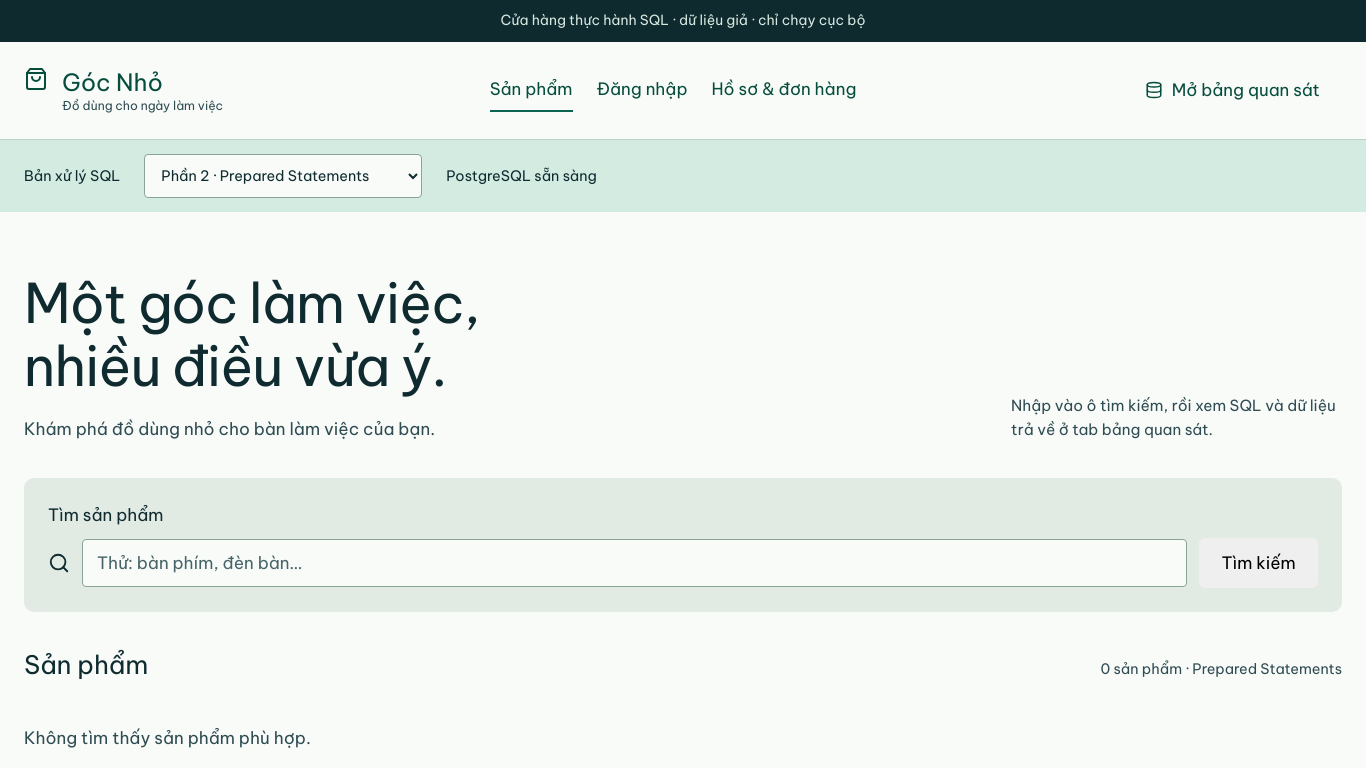
Test: Shop forms › sends search input unchanged and renders the returned rows
Check: the button "Tìm kiếm" is enabled, box [1199, 538, 1318, 588]
Type "a' b" into the field labelled "Tìm sản phẩm" at (635,563), box [82, 539, 1187, 587]
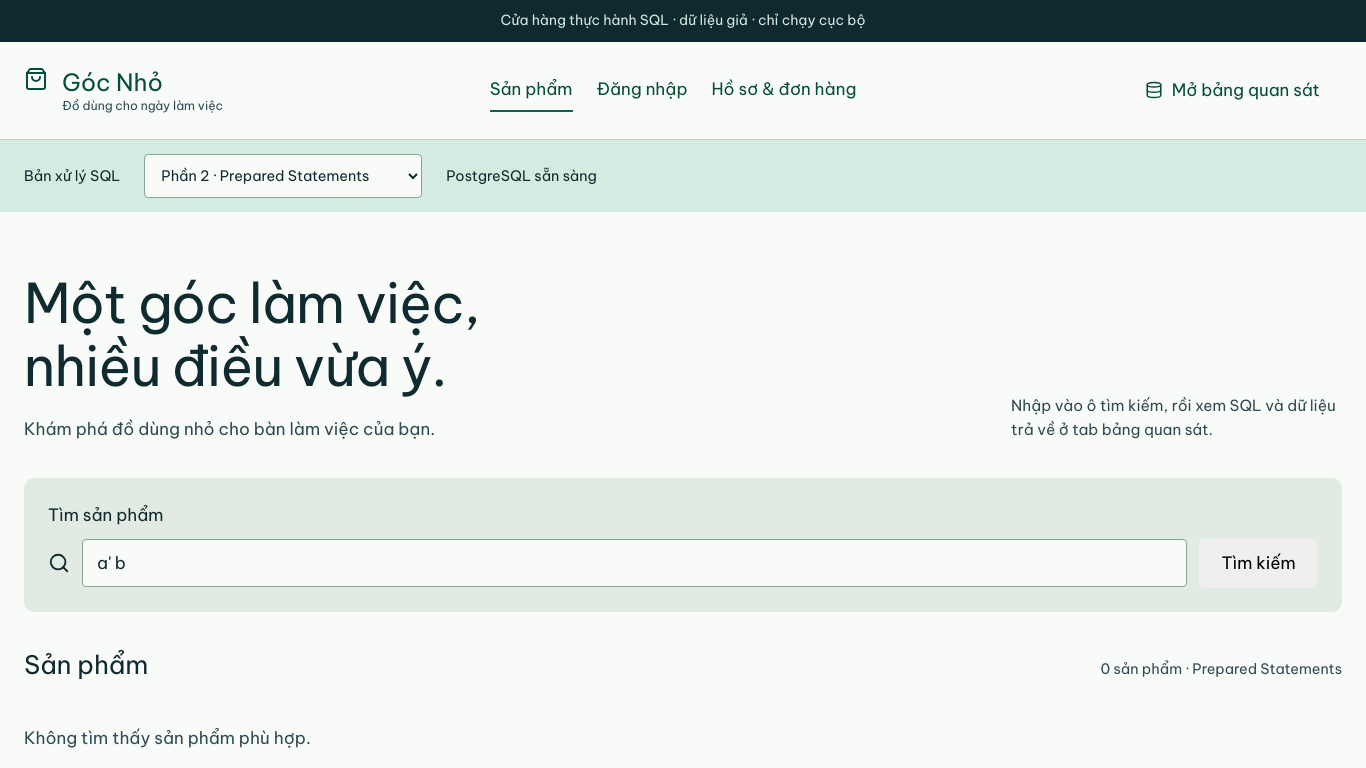
Click the button "Tìm kiếm" at (1259,563), box [1199, 538, 1318, 588]
(page scrolled)
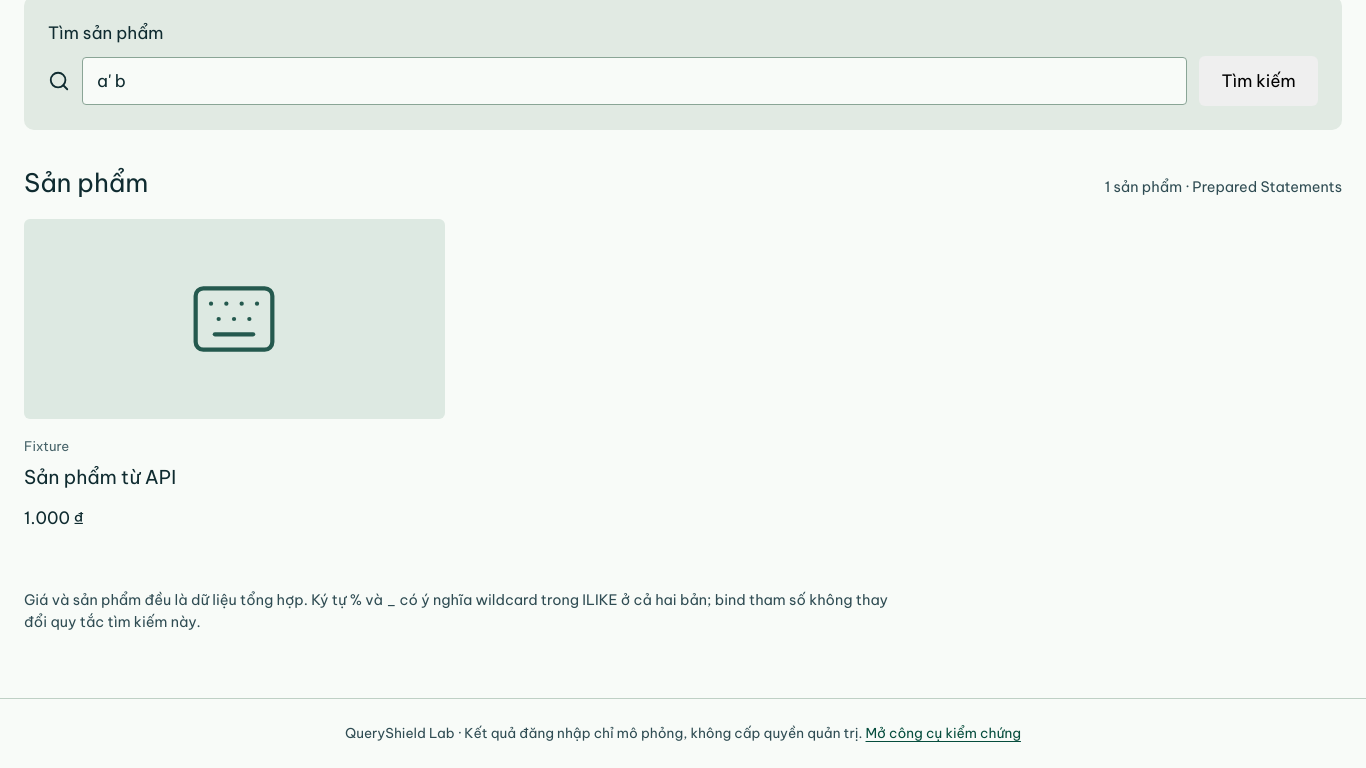
Check: the heading "Sản phẩm từ API" is shown, box [24, 465, 176, 489]
